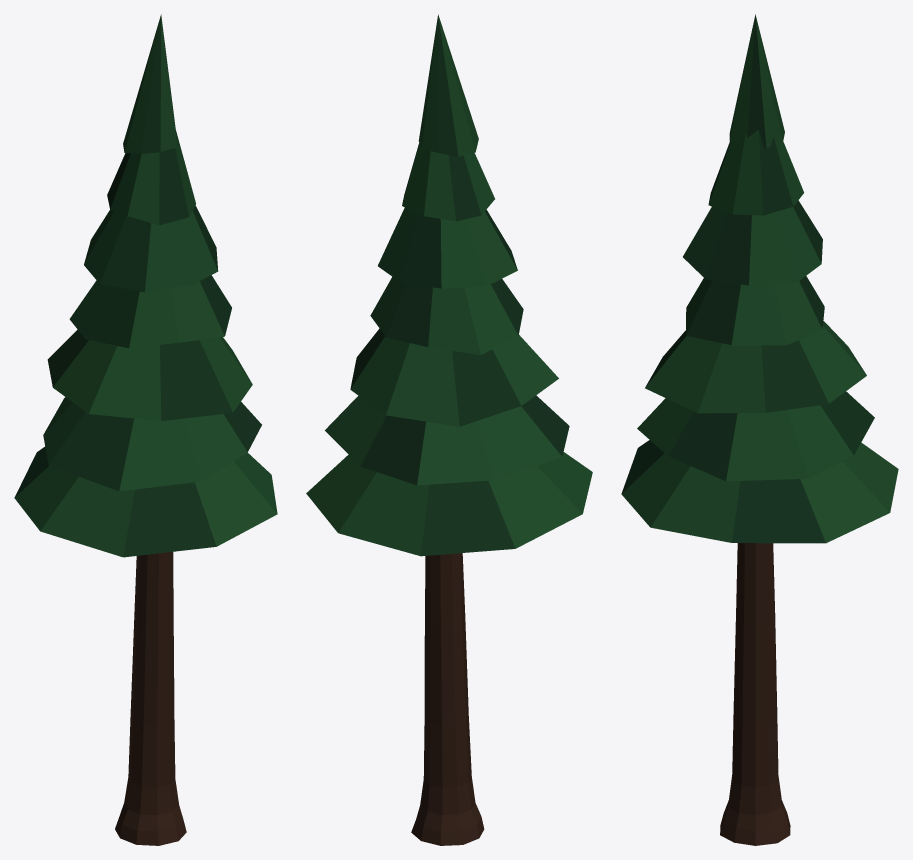
Rendered from GiantFir_C.obj.
3 renders of one model, left to right at view 1: azimuth 30°, elevation 25°; view 2: azimuth 150°, elevation 25°; view 3: azimuth 270°, elevation 25°, orthographic.
Parts seen in each view (by area): view 1: GiantFir_C; view 2: GiantFir_C; view 3: GiantFir_C.
Boxes of the visible parts, x1,y1,x2,y2 form: GiantFir_C: [14, 14, 277, 845]; GiantFir_C: [306, 14, 592, 845]; GiantFir_C: [621, 14, 898, 845].
Size of the model in its own units: 11.24 by 37.75 by 11.55.
